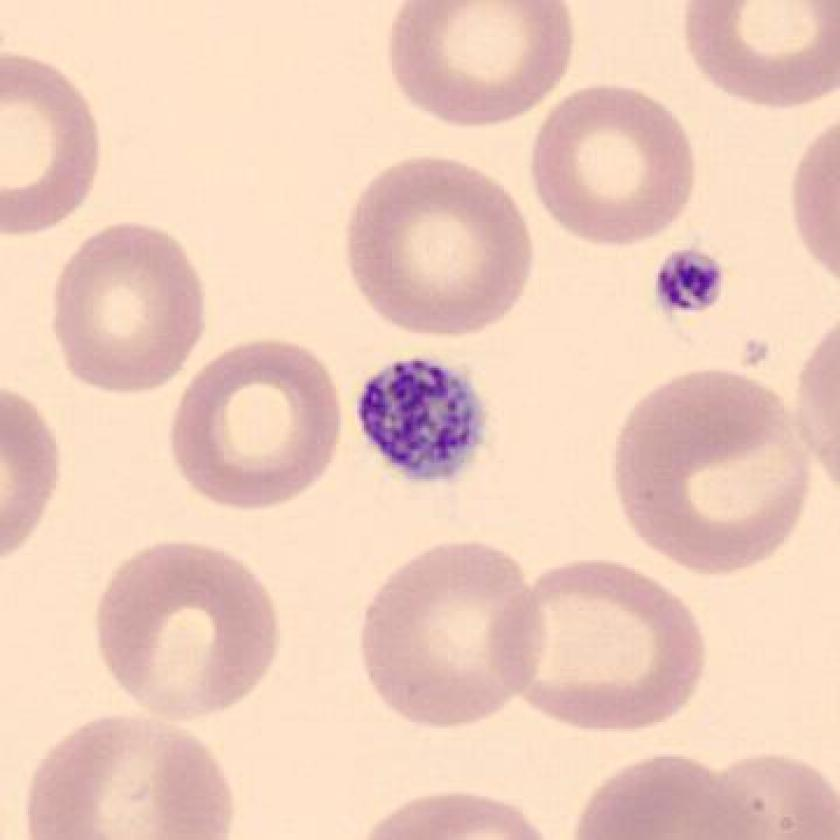platelets: (344, 346, 505, 496), (643, 230, 738, 334)
